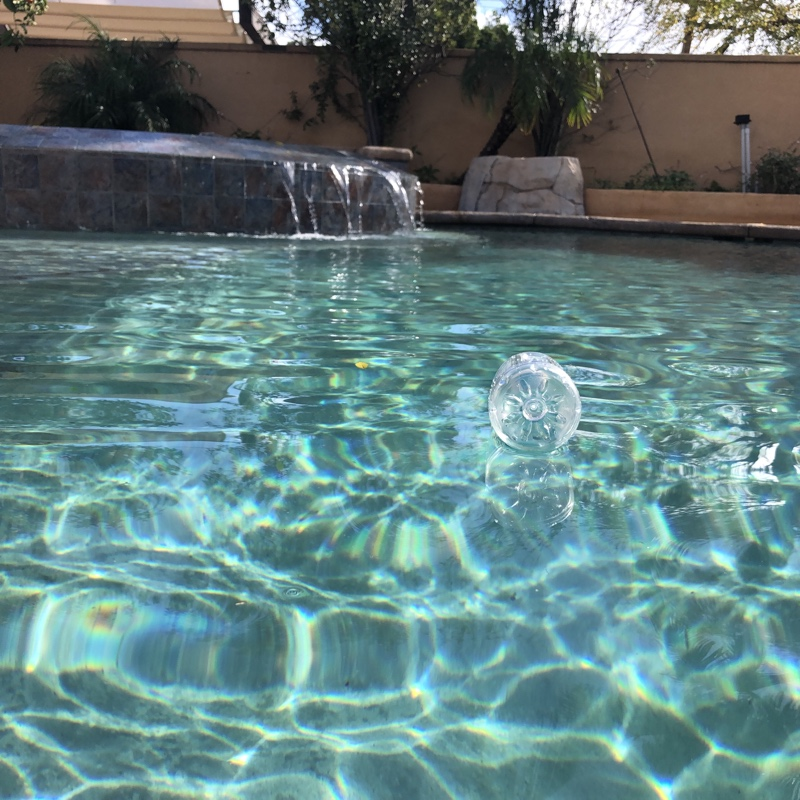Plastic Bottle: (486, 345, 584, 459)
